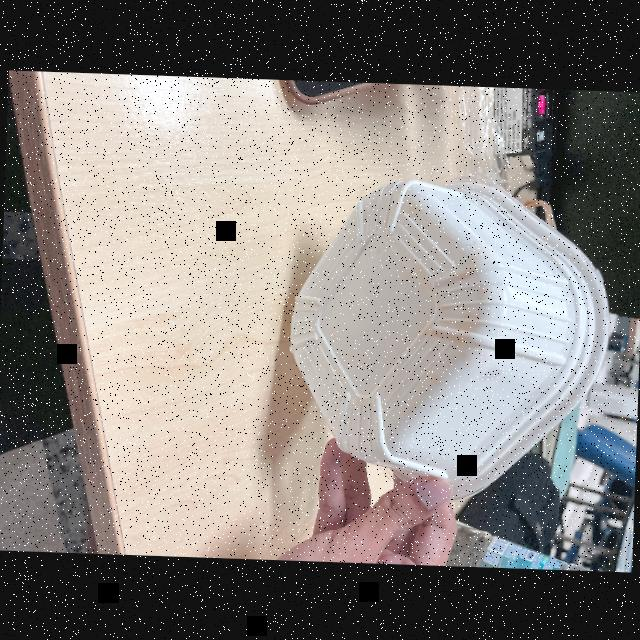plastic_box: (283, 158, 612, 521)
